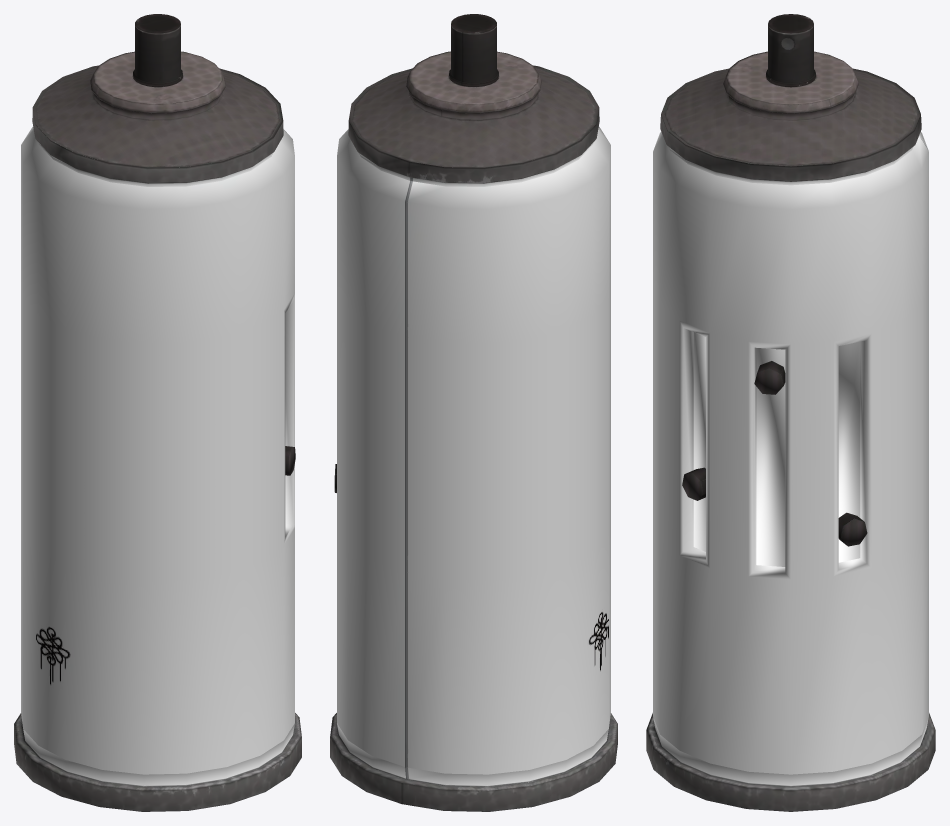
The model's file is sprayCanSeparated.glb.
3 views of the same model, side by side, from view 1: azimuth 30°, elevation 25°; view 2: azimuth 150°, elevation 25°; view 3: azimuth 270°, elevation 25° (orthographic).
Visible parts, largest first — view 1: can_label, spray_can, color_ring, spray_cap; view 2: can_label, spray_can, color_ring, spray_cap; view 3: can_label, spray_can, color_ring, green_panel, blue_panel, spray_cap, red_panel, green_slider, blue_slider, red_slider.
Boxes of the visible parts, left/top/right/bottom form: can_label: left=21, top=126, right=294, bottom=774; spray_can: left=14, top=51, right=301, bottom=811; color_ring: left=32, top=65, right=283, bottom=167; spray_cap: left=133, top=14, right=182, bottom=87; can_label: left=337, top=126, right=610, bottom=774; spray_can: left=330, top=51, right=617, bottom=811; color_ring: left=348, top=65, right=599, bottom=167; spray_cap: left=449, top=14, right=498, bottom=86; can_label: left=653, top=131, right=928, bottom=774; spray_can: left=646, top=51, right=935, bottom=811; color_ring: left=661, top=68, right=920, bottom=166; green_panel: left=756, top=348, right=785, bottom=566; blue_panel: left=838, top=341, right=860, bottom=562; spray_cap: left=766, top=14, right=815, bottom=87; red_panel: left=693, top=332, right=705, bottom=551; green_slider: left=754, top=361, right=785, bottom=394; blue_slider: left=838, top=512, right=867, bottom=546; red_slider: left=682, top=467, right=705, bottom=500.
Size of the model in its own units: 2.42 by 6.72 by 2.42.
Materials: 1 (1 with a texture image).
